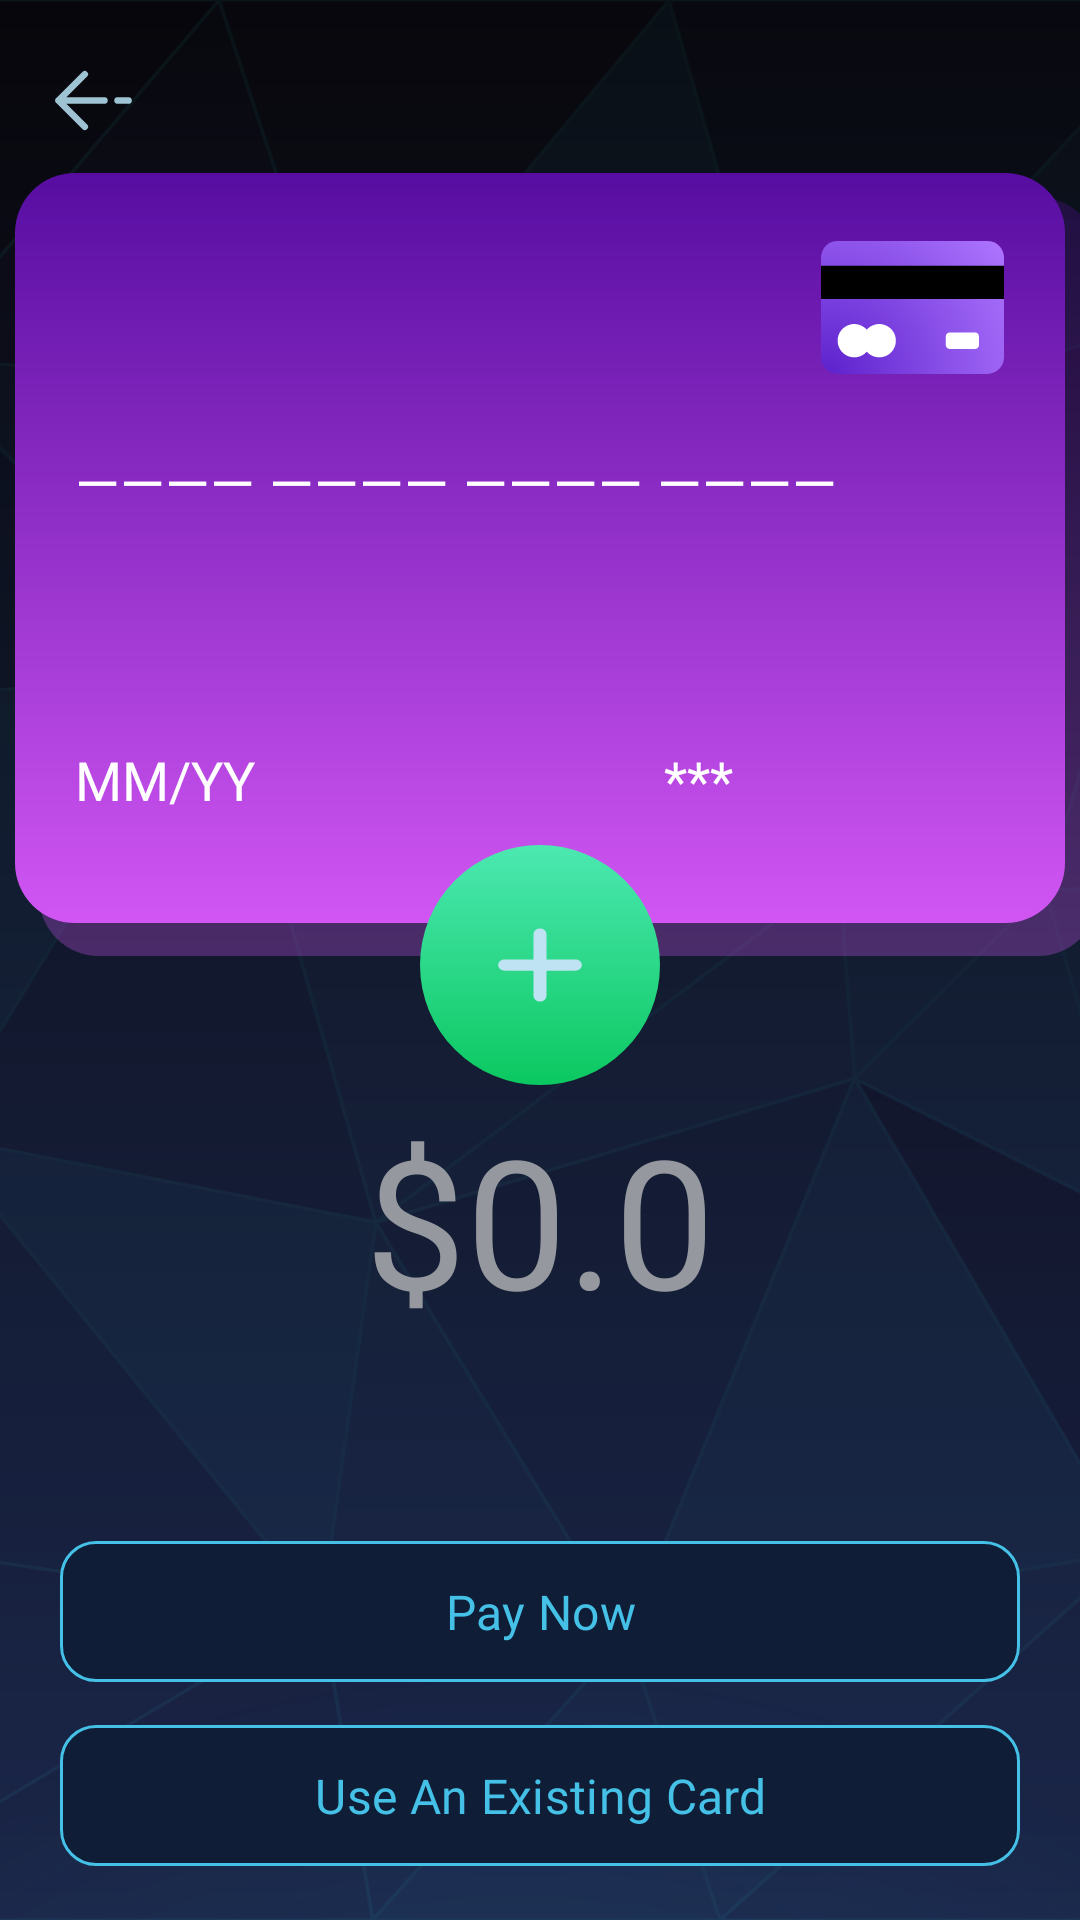

Named icons in this screenshot (1080 x 1920) and their centers, [x,y]:
arrow back: [93,100]
blank card: [912,296]
plus: [540,965]
